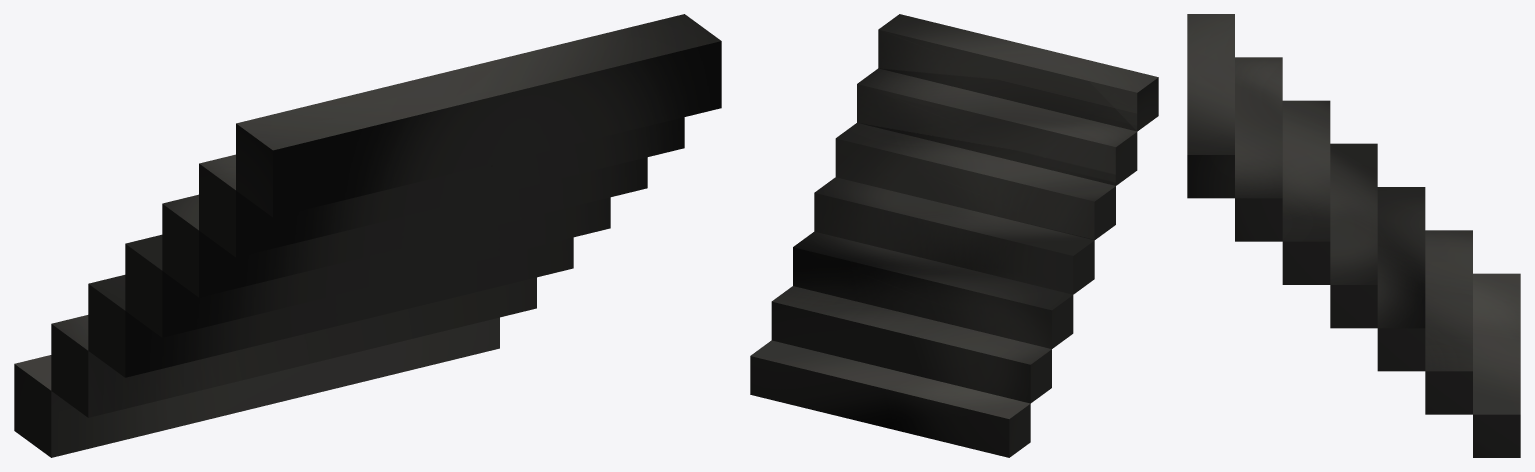
The model's file is Stairs.fbx.
3 renders of one model, left to right at view 1: azimuth 30°, elevation 25°; view 2: azimuth 150°, elevation 25°; view 3: azimuth 270°, elevation 25°, orthographic. The views are drawn at different scales.
Parts seen in each view (by area): view 1: Stairs; view 2: Stairs; view 3: Stairs.
Part boxes in pixels (x1,y1,x2,y2): Stairs: [14, 14, 721, 457]; Stairs: [750, 14, 1158, 457]; Stairs: [1187, 14, 1520, 457].
Size of the model in its own units: 249 by 249 by 249.
Materials: 1 (1 with a texture image).
